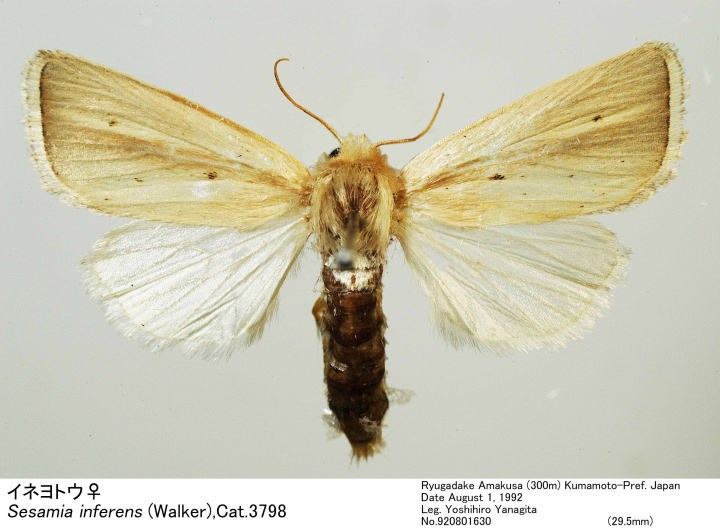Noctuidae: (21, 41, 687, 461)
